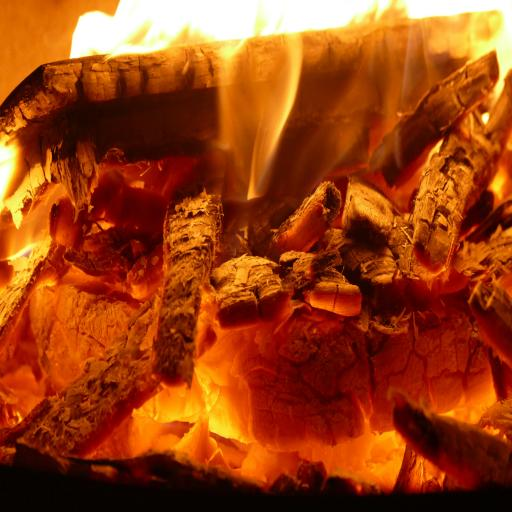campfire: (3, 0, 512, 512)
